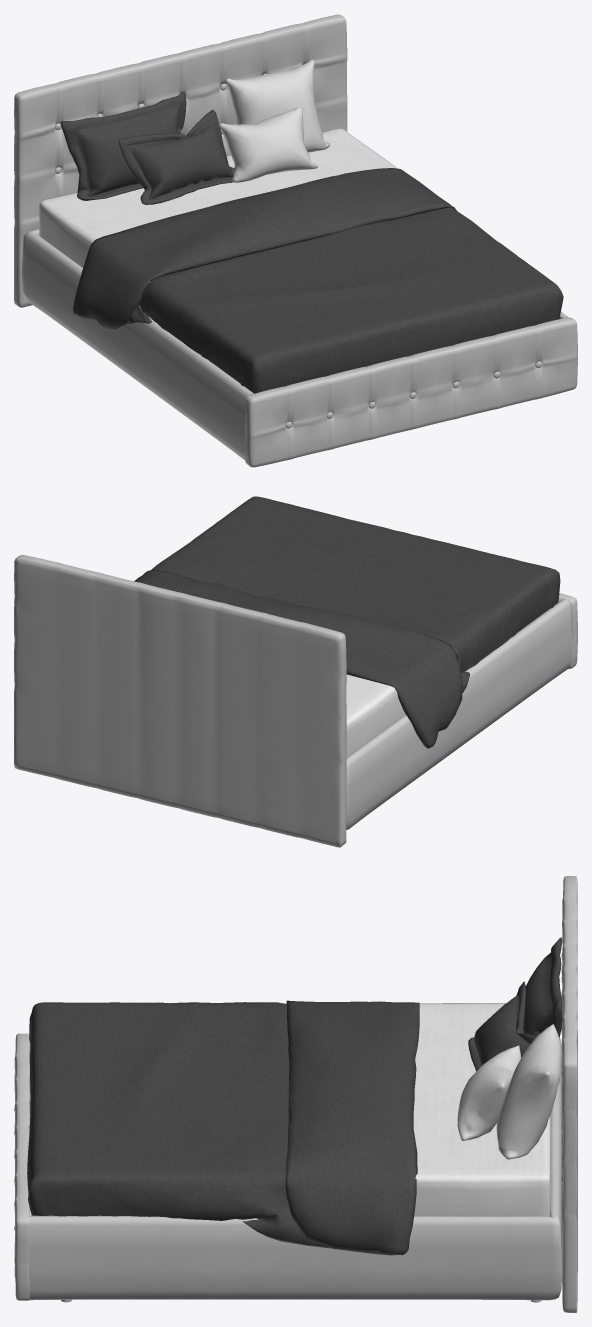
3 renders of one model, top to bottom at view 1: azimuth 30°, elevation 25°; view 2: azimuth 150°, elevation 25°; view 3: azimuth 270°, elevation 25°, orthographic. The views are drawn at different scales.
Parts seen in each view (by area): view 1: Classic_Bed; view 2: Classic_Bed; view 3: Classic_Bed.
Boxes of the visible parts, x1,y1,x2,y2 form: Classic_Bed: (14,14,577,467); Classic_Bed: (14,496,577,847); Classic_Bed: (14,876,577,1312).
Bounding box in the file's own units: 1879 × 1067 × 2168.
1 material, 1 textured.
